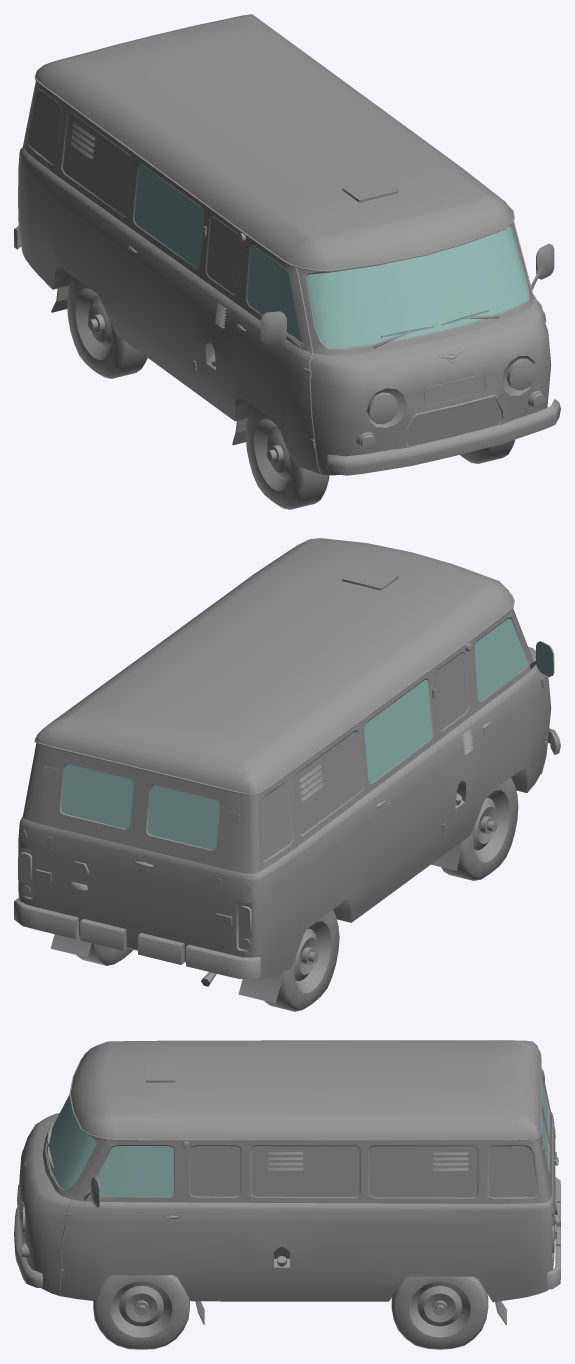
The model's file is Uaz452.FBX.
3 views of the same model, one above another, from view 1: azimuth 30°, elevation 25°; view 2: azimuth 150°, elevation 25°; view 3: azimuth 270°, elevation 25° (orthographic). The views are drawn at different scales.
Parts seen in each view (by area): view 1: UAZ-453_high, UAZ-453_high_ncl1_1; view 2: UAZ-453_high, UAZ-453_high_ncl1_1; view 3: UAZ-453_high, UAZ-453_high_ncl1_1.
Part boxes in pixels (left/top/right/bottom): UAZ-453_high: left=14, top=14, right=560, bottom=509; UAZ-453_high_ncl1_1: left=134, top=165, right=527, bottom=347; UAZ-453_high: left=14, top=538, right=560, bottom=1011; UAZ-453_high_ncl1_1: left=61, top=618, right=552, bottom=849; UAZ-453_high: left=14, top=1040, right=560, bottom=1349; UAZ-453_high_ncl1_1: left=46, top=1080, right=548, bottom=1196.
Bounding box in the file's own units: 103 × 94.33 × 200.
